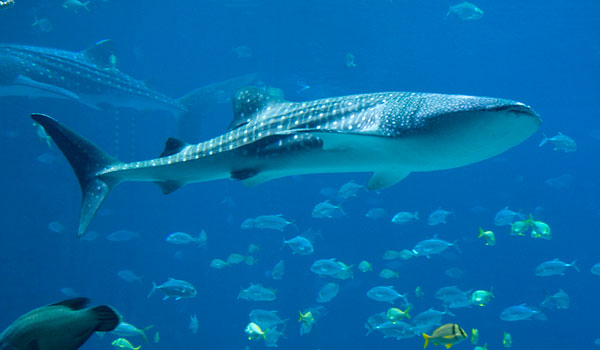Rhincodon_typusw: (30, 88, 551, 221), (1, 29, 226, 143)
